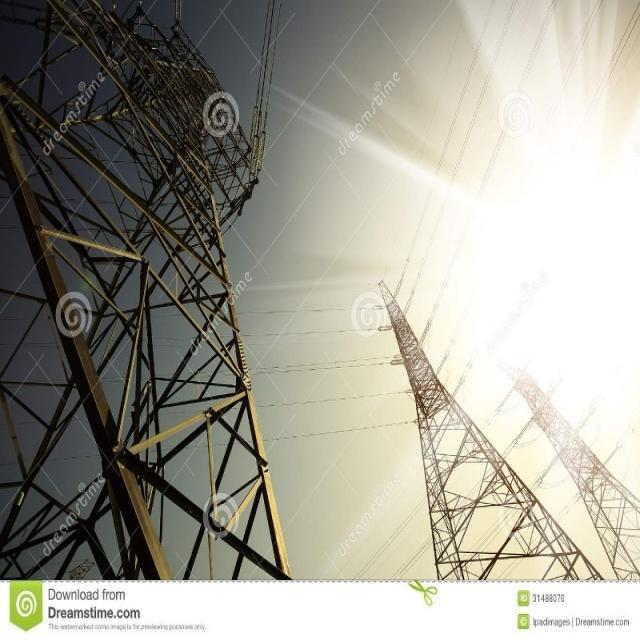non-critical vegetation: (5, 3, 293, 578), (369, 279, 637, 580)
